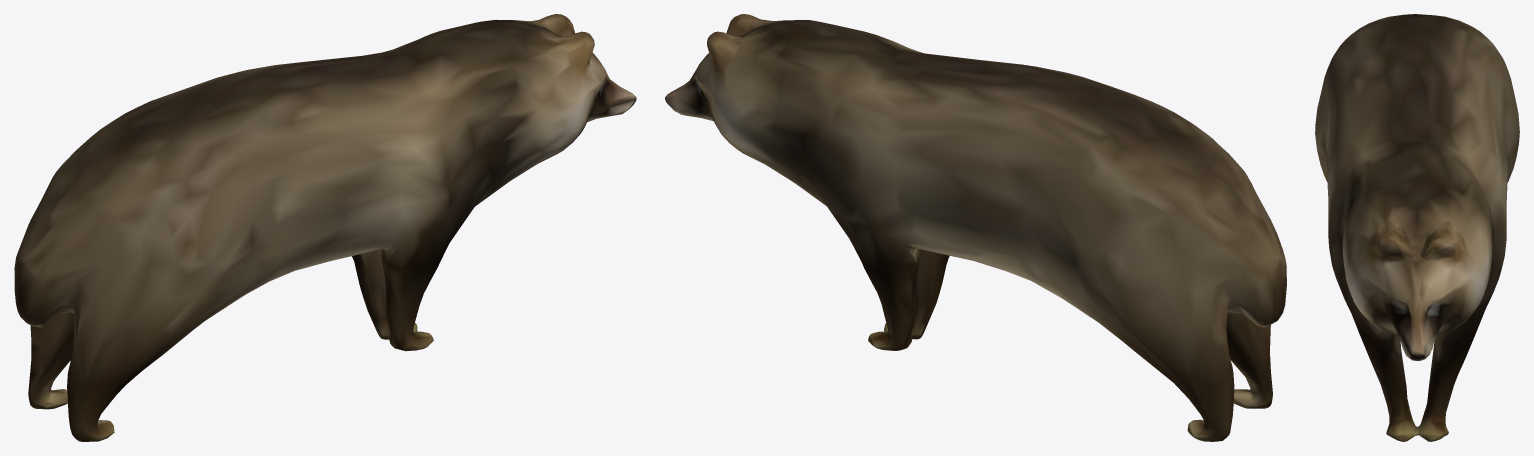
File: tanuki.glb
3 renders of one model, left to right at view 1: azimuth 30°, elevation 25°; view 2: azimuth 150°, elevation 25°; view 3: azimuth 270°, elevation 25°, orthographic. The views are drawn at different scales.
Parts seen in each view (by area): view 1: fauna/tanuki.glb; view 2: fauna/tanuki.glb; view 3: fauna/tanuki.glb.
Part boxes in pixels (x1,y1,x2,y2): fauna/tanuki.glb: [14, 14, 636, 441]; fauna/tanuki.glb: [665, 14, 1286, 441]; fauna/tanuki.glb: [1315, 14, 1519, 441].
Bounding box in the file's own units: 0.9999 × 0.4603 × 0.2786.
